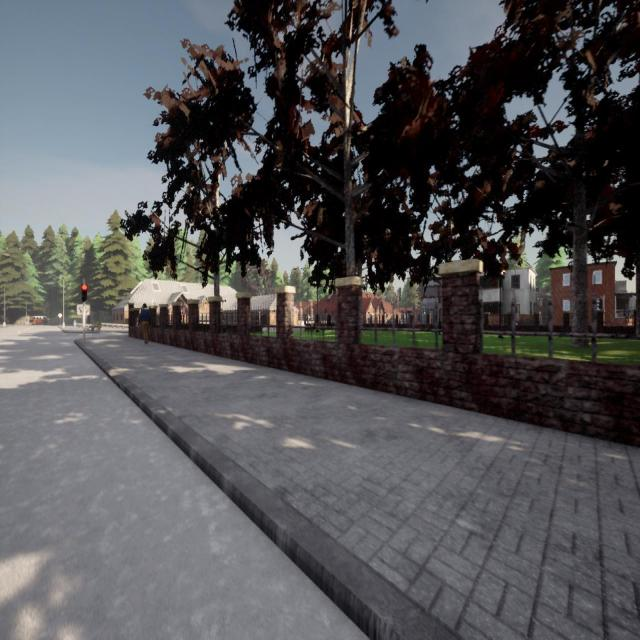Pedestrian: (138, 303, 151, 343), (73, 318, 77, 330)
Traffic_Signs: (58, 313, 62, 318)
Vehicle: (29, 315, 48, 325)
traffic_light: (81, 284, 88, 301), (424, 308, 426, 315)
